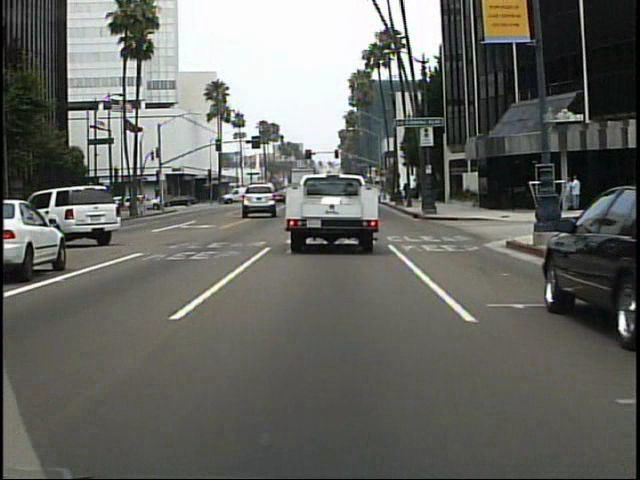person: (569, 170, 584, 212), (560, 174, 574, 216), (155, 189, 168, 214)
